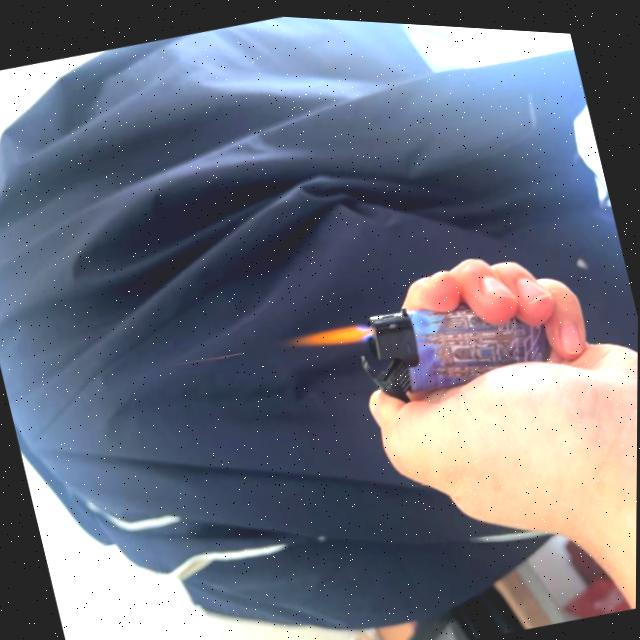Fire: (286, 308, 370, 359)
